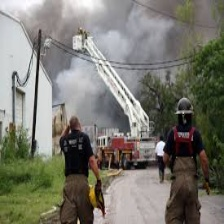smoke: (37, 11, 171, 119)
